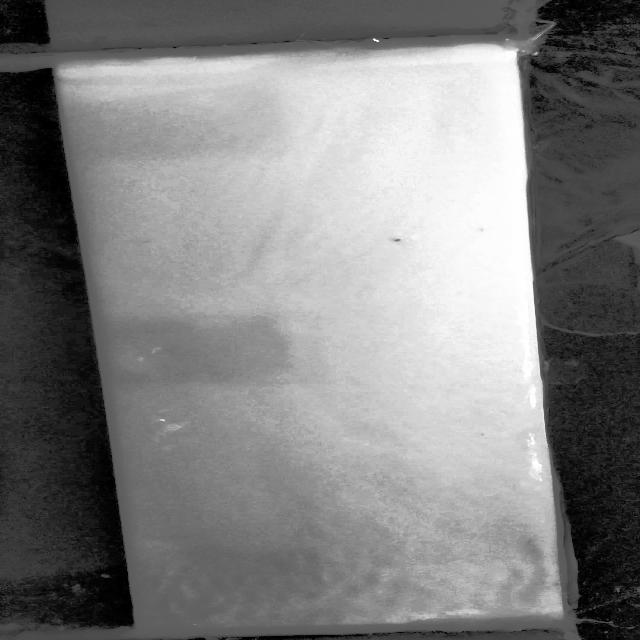shrimp: (368, 229, 418, 250)
